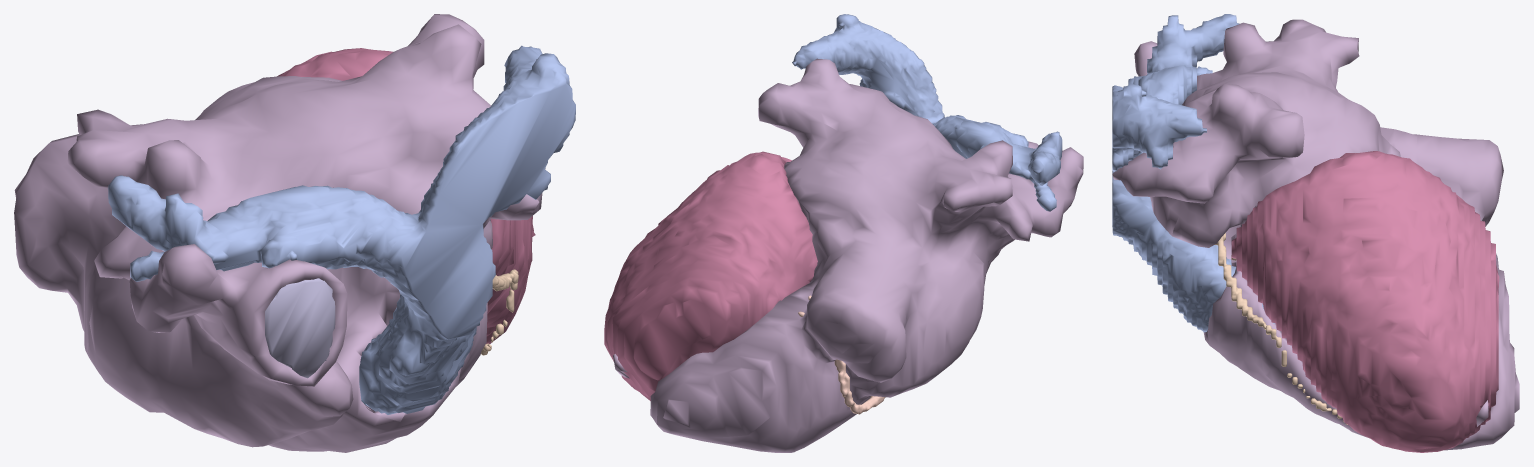
3 renders of one model, left to right at view 1: azimuth 30°, elevation 25°; view 2: azimuth 150°, elevation 25°; view 3: azimuth 270°, elevation 25°, orthographic. The views are drawn at different scales.
Visible parts, largest first — view 1: heart-wall, pulmonary-artery, myocardium, right-atrium, left-coronary-artery; view 2: heart-wall, myocardium, pulmonary-artery, right-coronary-artery; view 3: myocardium, heart-wall, pulmonary-artery, left-coronary-artery.
Boxes of the visible parts, left/top/right/bottom form: heart-wall: left=14, top=14, right=545, bottom=452; pulmonary-artery: left=107, top=45, right=575, bottom=414; myocardium: left=277, top=48, right=535, bottom=343; right-atrium: left=265, top=278, right=335, bottom=378; left-coronary-artery: left=481, top=269, right=518, bottom=355; heart-wall: left=613, top=58, right=1083, bottom=452; myocardium: left=604, top=151, right=817, bottom=400; pulmonary-artery: left=792, top=14, right=1062, bottom=211; right-coronary-artery: left=798, top=295, right=885, bottom=414; myocardium: left=1231, top=151, right=1499, bottom=452; heart-wall: left=1112, top=19, right=1519, bottom=450; pulmonary-artery: left=1112, top=14, right=1239, bottom=332; left-coronary-artery: left=1215, top=233, right=1347, bottom=424.
Size of the model in its own units: 137 by 118 by 123.
